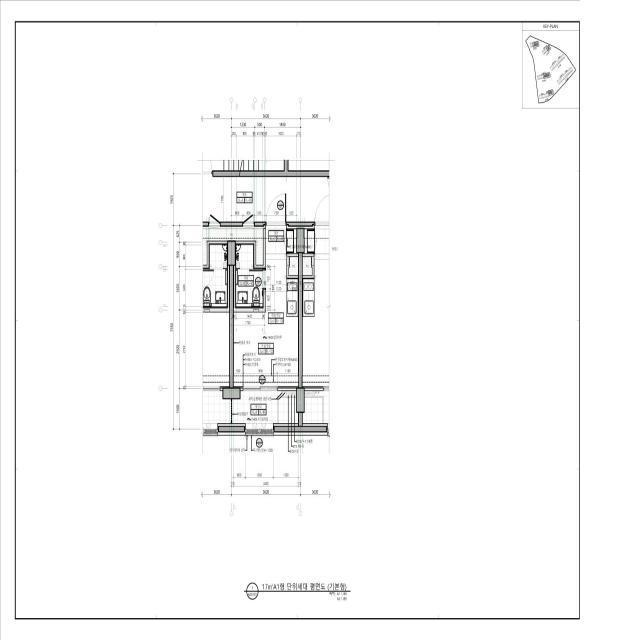space_balconi: (232, 391, 298, 423)
space_bedroom: (234, 259, 298, 386)
space_front: (266, 226, 293, 259)
space_kitchen: (286, 279, 298, 317)
space_other: (203, 177, 329, 222), (203, 228, 263, 265), (289, 257, 298, 275)
space_toilet: (236, 245, 263, 306)
